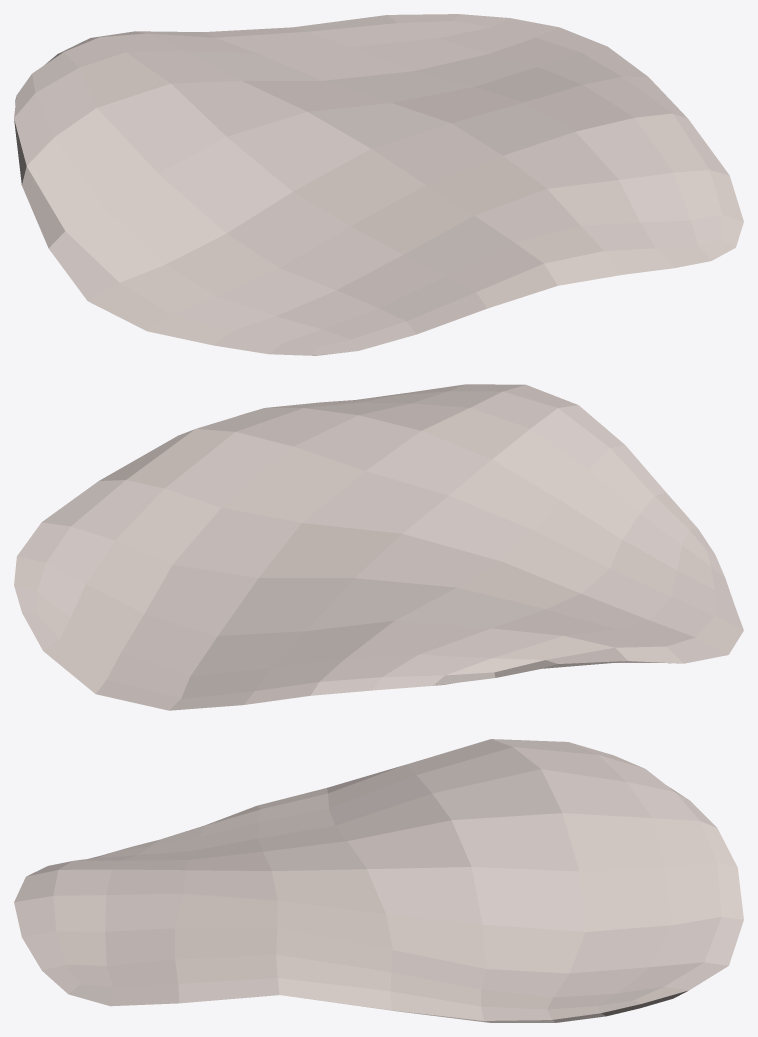
File: Coral_platform_007.glb
3 renders of one model, top to bottom at view 1: azimuth 30°, elevation 25°; view 2: azimuth 150°, elevation 25°; view 3: azimuth 270°, elevation 25°, orthographic. The views are drawn at different scales.
Parts seen in each view (by area): view 1: Coral_platform_007; view 2: Coral_platform_007; view 3: Coral_platform_007.
Boxes of the visible parts, x1,y1,x2,y2 form: Coral_platform_007: [14, 14, 743, 355]; Coral_platform_007: [14, 384, 743, 710]; Coral_platform_007: [14, 739, 743, 1022].
Bounding box in the file's own units: 1.75 × 0.2831 × 1.95.
1 material, 1 textured.
